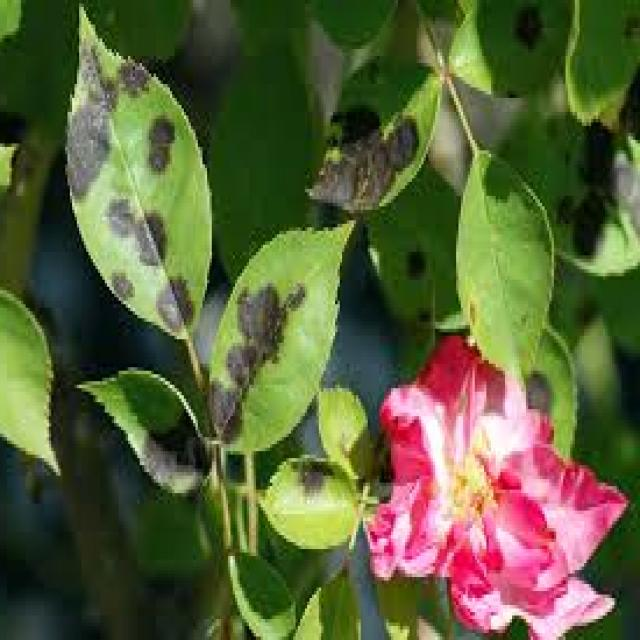black-spot: (0, 58, 157, 282), (317, 67, 428, 267), (208, 292, 306, 441)
